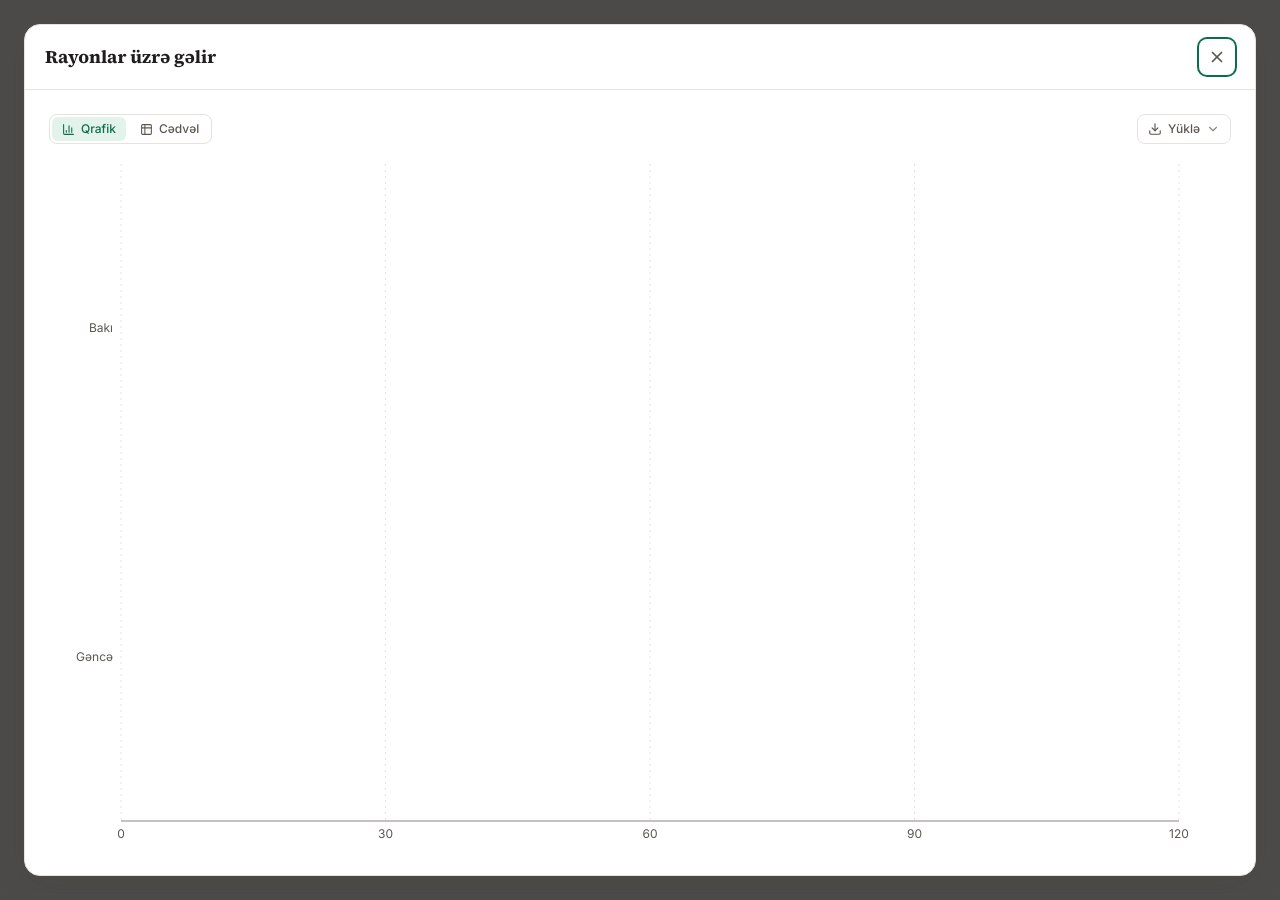
it: ShareChartModal › offers the image formats for a chart
The width and height of the screenshot is (1280, 900).
Click the button "Yüklə": [1184, 129] box [1137,114,1231,144]
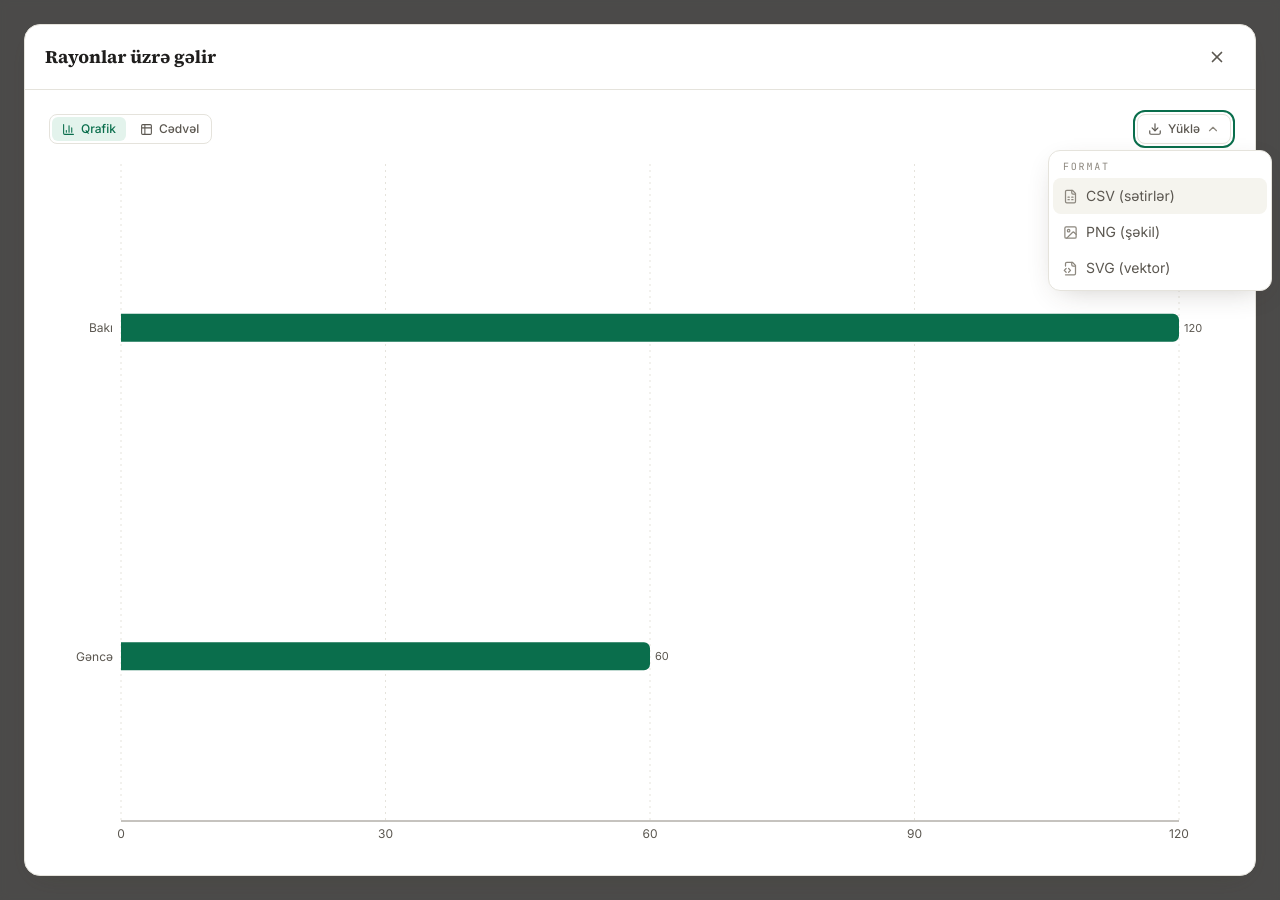
Now the menu item "PNG (şəkil)" is shown, box [1053,214,1267,250]
Now the menu item "SVG (vektor)" is shown, box [1053,250,1267,286]
